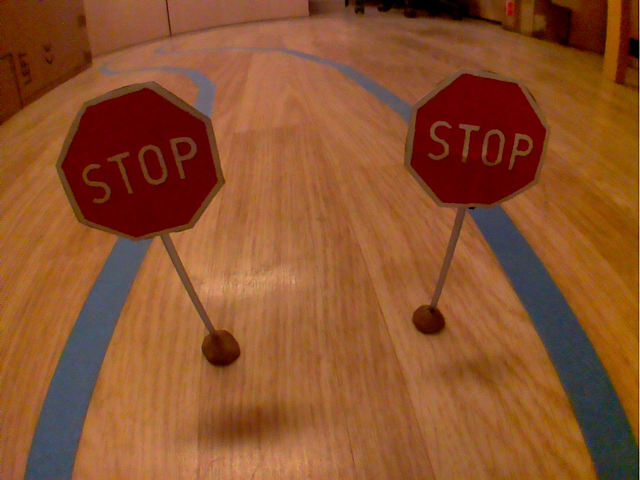Stop: (52, 76, 228, 246), (400, 64, 556, 215)
